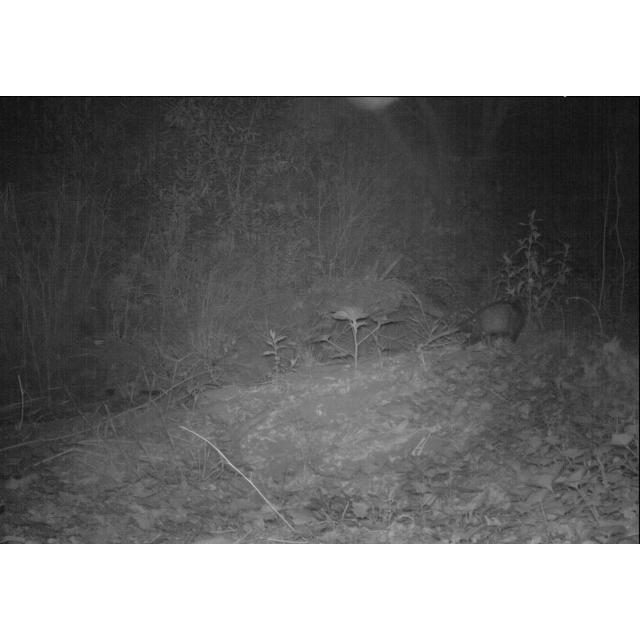animals: (423, 297, 531, 349)
